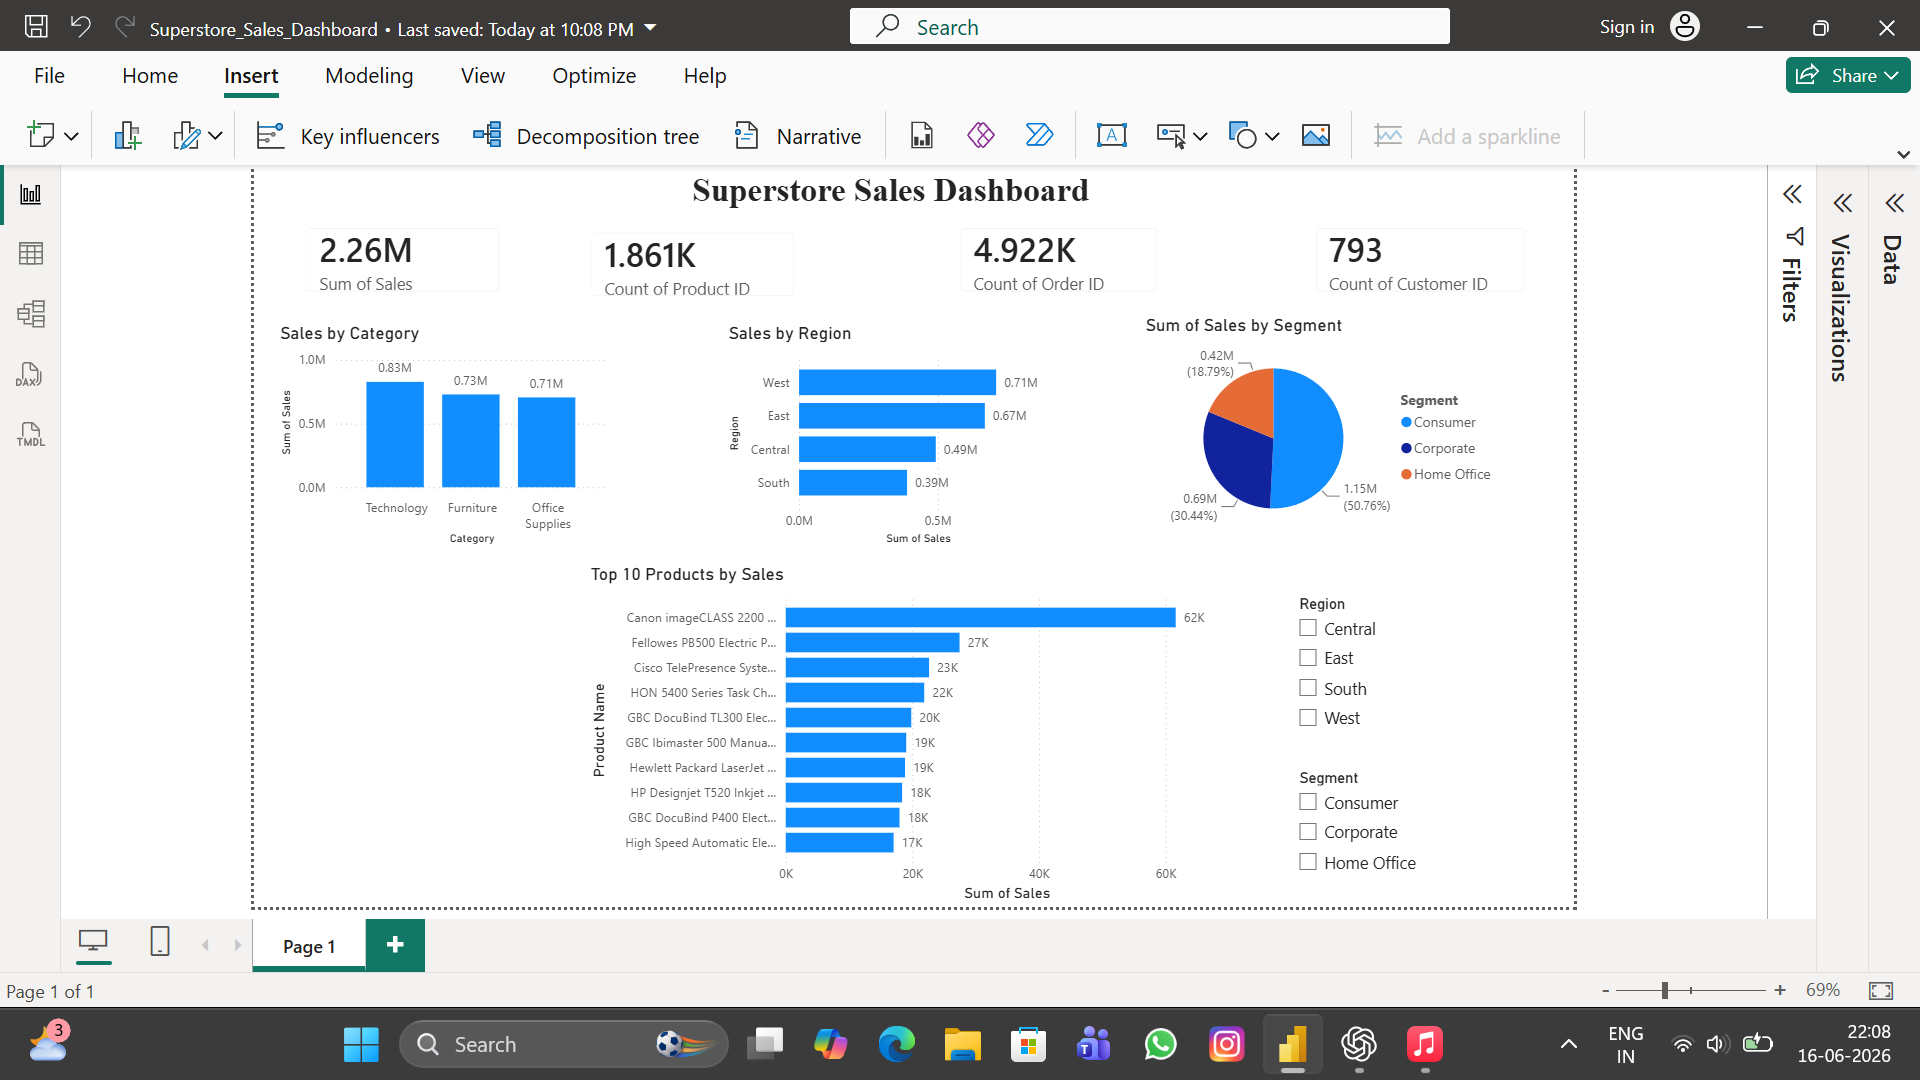

Layout of this report page (visuals, bound fields, positions):
{"tool":"powerbi","page":{"name":"Page 1","canvas":[1280,720],"ordinal":0},"visuals":[{"type":"cardVisual","fields":{"Data":["Sum(train.Sales)"]},"box":[33.3,43.9,221.1,96.9],"z":0},{"type":"cardVisual","fields":{"Data":["Count(train.Order ID)"]},"box":[667.8,43.9,225.6,96.9],"z":1},{"type":"cardVisual","fields":{"Data":["Count(train.Customer ID)"]},"box":[1013,43.9,237.7,96.9],"z":2},{"type":"cardVisual","fields":{"Data":["Count(train.Product ID)"]},"box":[310.4,48.5,231.7,96.9],"z":3},{"type":"clusteredColumnChart","title":"Sales by Category","fields":{"Y":["Sum(train.Sales)"],"Category":["train.Category"]},"box":[19.7,152.9,328.6,219.6],"z":4},{"type":"clusteredBarChart","title":"Sales by Region","fields":{"Category":["train.Region"],"Y":["Sum(train.Sales)"]},"box":[455.8,152.9,324,219.6],"z":5},{"type":"clusteredBarChart","title":"Top 10 Products by Sales","fields":{"Category":["train.Product Name"],"Y":["Sum(train.Sales)"]},"box":[321,387.6,639,331.6],"z":6},{"type":"pieChart","fields":{"Category":["train.Segment"],"Y":["Sum(train.Sales)"]},"box":[860.1,145.4,354.3,219.6],"z":7},{"type":"slicer","fields":{"Values":["train.Region"]},"box":[1000.9,411.9,221.1,169.6],"z":8},{"type":"slicer","fields":{"Values":["train.Segment"]},"box":[1000.9,581.5,221.1,137.8],"z":9},{"type":"textbox","box":[106.9,0,1023.4,48.6],"z":10}]}

Visuals, with their boxes on the page's 1280x720 design canvas (x1, y1, x2, y2). These are canvas units, not pixel positions in the 1920x1080 screenshot, which may show the page scaled, cropped or inside an application window:
cardVisual - Sum(train.Sales): (left=33, top=44, right=254, bottom=141)
cardVisual - Count(train.Order ID): (left=668, top=44, right=893, bottom=141)
cardVisual - Count(train.Customer ID): (left=1013, top=44, right=1251, bottom=141)
cardVisual - Count(train.Product ID): (left=310, top=48, right=542, bottom=145)
"Sales by Category" clusteredColumnChart: (left=20, top=153, right=348, bottom=372)
"Sales by Region" clusteredBarChart: (left=456, top=153, right=780, bottom=372)
"Top 10 Products by Sales" clusteredBarChart: (left=321, top=388, right=960, bottom=719)
pieChart - train.Segment x Sum(train.Sales): (left=860, top=145, right=1214, bottom=365)
slicer - train.Region: (left=1001, top=412, right=1222, bottom=582)
slicer - train.Segment: (left=1001, top=582, right=1222, bottom=719)
textbox: (left=107, top=0, right=1130, bottom=49)
